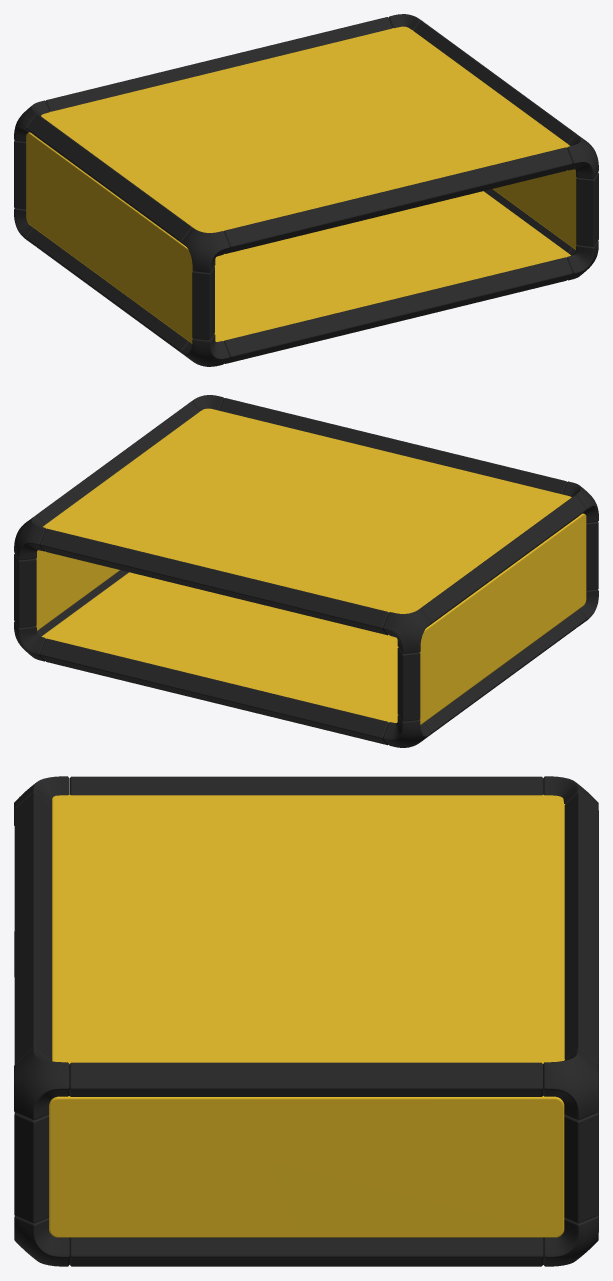
The picture shows the model from 3 angles, top to bottom: view 1: azimuth 30°, elevation 25°; view 2: azimuth 150°, elevation 25°; view 3: azimuth 270°, elevation 25°; orthographic projection. The views are drawn at different scales.
Parts seen in each view (by area): view 1: 420x329x79; view 2: 420x329x79; view 3: 420x329x79.
Boxes of the visible parts, x1,y1,x2,y2 form: 420x329x79: (14,14,598,366); 420x329x79: (14,395,598,747); 420x329x79: (14,776,598,1266).
Size of the model in its own units: 0.4977 by 0.1566 by 0.4063.
